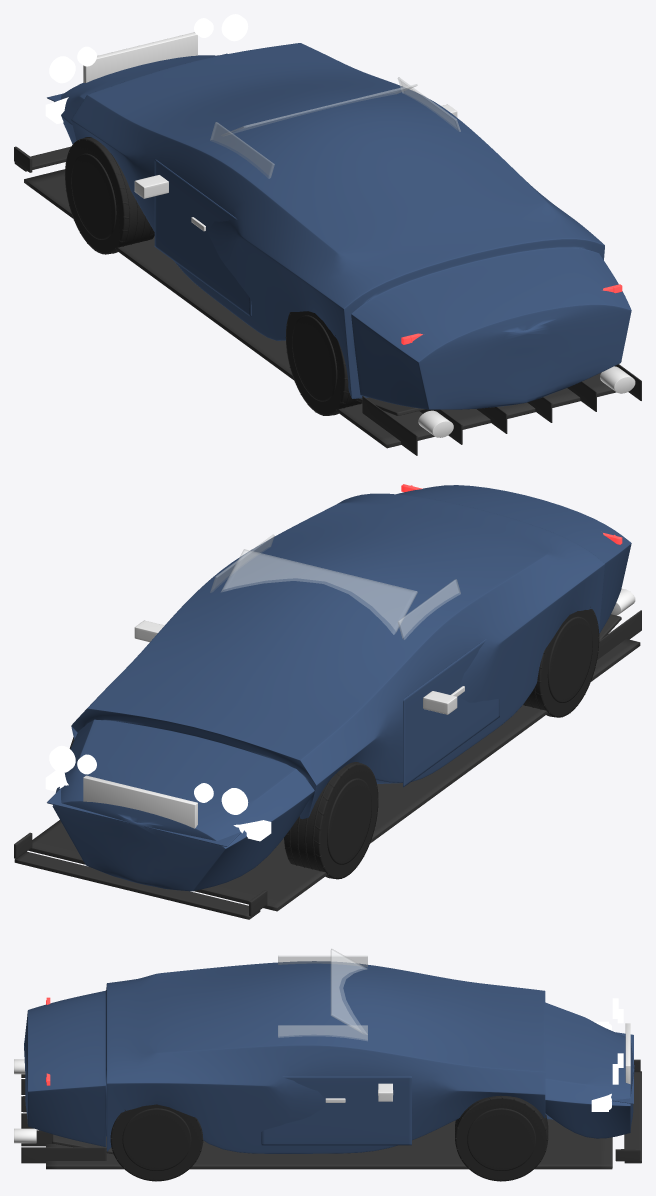
Rendered from Car_Bentley_Continental_GT_2000s_Complete.glb.
The picture shows the model from 3 angles, top to bottom: view 1: azimuth 30°, elevation 25°; view 2: azimuth 150°, elevation 25°; view 3: azimuth 270°, elevation 25°; orthographic projection. The views are drawn at different scales.
Visible parts, largest first — view 1: BODY_MainShell, UNDERBODY_FlatFloor, WHEEL_FL_Tire, BODY_Door_FL, WHEEL_RL_Tire, GLASS_Greenhouse, JEWELRY_Bentley_MatrixGrille, LIGHTING_Bentley_QuadJewels, JEWELRY_Bentley_OvalExhaust, AERO_FrontSplitter, JEWELRY_Hardware; view 2: BODY_MainShell, UNDERBODY_FlatFloor, WHEEL_FL_Tire, GLASS_Greenhouse, BODY_Door_FL, WHEEL_RL_Tire, AERO_FrontSplitter, JEWELRY_Bentley_MatrixGrille, LIGHTING_Bentley_QuadJewels, JEWELRY_Hardware, LIGHTING_Headlamps, BODY_Hood; view 3: BODY_MainShell, UNDERBODY_FlatFloor, BODY_Door_FR, WHEEL_FR_Tire, WHEEL_RR_Tire, GLASS_Greenhouse, AERO_FrontSplitter, JEWELRY_Bentley_OvalExhaust, LIGHTING_Bentley_QuadJewels, LIGHTING_Headlamps, JEWELRY_Hardware, JEWELRY_Bentley_MatrixGrille.
Part boxes in pixels (x1,y1,x2,y2): BODY_MainShell: (61, 43, 631, 409); UNDERBODY_FlatFloor: (24, 169, 641, 455); WHEEL_FL_Tire: (65, 137, 154, 254); BODY_Door_FL: (154, 159, 251, 317); WHEEL_RL_Tire: (285, 311, 362, 415); GLASS_Greenhouse: (210, 77, 460, 178); JEWELRY_Bentley_MatrixGrille: (83, 32, 197, 82); LIGHTING_Bentley_QuadJewels: (49, 14, 248, 83); JEWELRY_Bentley_OvalExhaust: (418, 366, 635, 437); AERO_FrontSplitter: (14, 146, 70, 172); JEWELRY_Hardware: (134, 104, 457, 231); BODY_MainShell: (52, 485, 631, 891); UNDERBODY_FlatFloor: (28, 610, 641, 911); WHEEL_FL_Tire: (284, 762, 378, 879); GLASS_Greenhouse: (210, 534, 460, 639); BODY_Door_FL: (403, 639, 499, 787); WHEEL_RL_Tire: (523, 607, 599, 717); AERO_FrontSplitter: (14, 832, 267, 919); JEWELRY_Bentley_MatrixGrille: (83, 775, 197, 828); LIGHTING_Bentley_QuadJewels: (49, 745, 248, 814); JEWELRY_Hardware: (134, 620, 464, 714); LIGHTING_Headlamps: (45, 770, 271, 841); BODY_Hood: (47, 788, 241, 846); BODY_MainShell: (24, 961, 634, 1153); UNDERBODY_FlatFloor: (21, 1074, 612, 1169); BODY_Door_FR: (261, 1076, 412, 1145); WHEEL_FR_Tire: (455, 1095, 548, 1181); WHEEL_RR_Tire: (110, 1104, 203, 1181); GLASS_Greenhouse: (278, 949, 367, 1040); AERO_FrontSplitter: (615, 1059, 641, 1163); JEWELRY_Bentley_OvalExhaust: (14, 1059, 36, 1143); LIGHTING_Bentley_QuadJewels: (612, 998, 623, 1084); LIGHTING_Headlamps: (591, 1021, 611, 1111); JEWELRY_Hardware: (325, 1083, 393, 1102); JEWELRY_Bentley_MatrixGrille: (625, 1023, 630, 1084).
Size of what is drawn, in the model's own units: 2.25 by 1.34 by 5.01.
